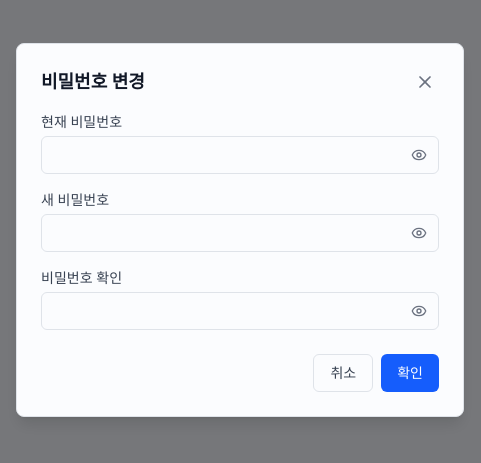
ChangePasswordDialog 기존 검증 (회귀 방지) › 새 비밀번호와 확인이 다르면 요청하지 않고 사유를 알린다
Type "old-password" into the password field labelled "현재 비밀번호". click: (240, 155)
box: top-left (41, 136), bottom-right (439, 174)
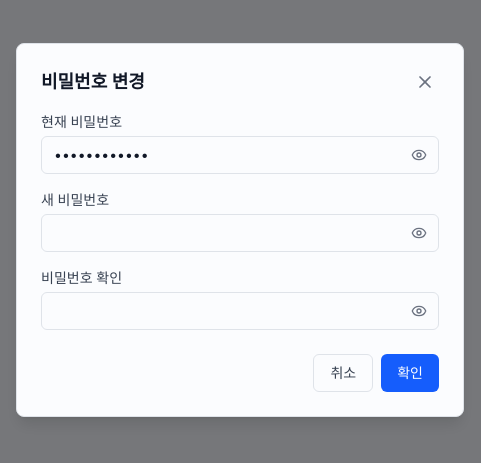
Type "new-password" into the password field labelled "새 비밀번호". click: (240, 233)
box: top-left (41, 214), bottom-right (439, 252)
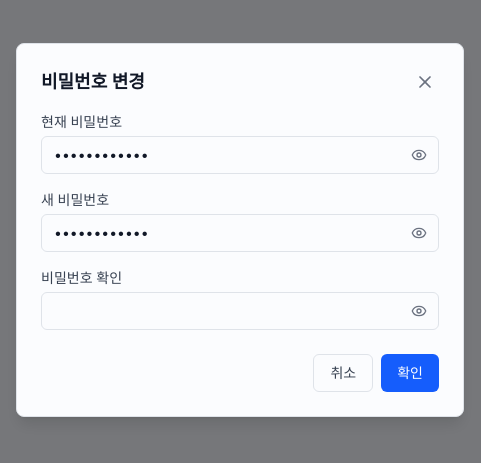
Type "other-password" into the password field labelled "비밀번호 확인". click: (240, 311)
box: top-left (41, 292), bottom-right (439, 330)
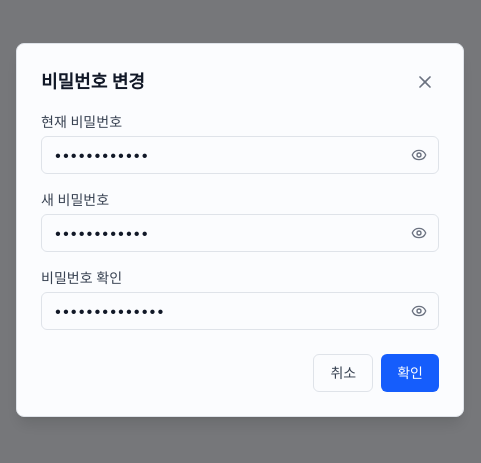
Click the button "확인". click: (410, 373)
box: top-left (381, 354), bottom-right (439, 392)
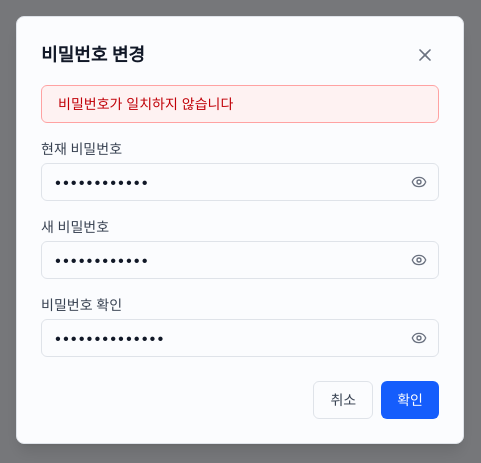
Now the message reads "비밀번호가 일치하지 않습니다", box top-left (58, 95), bottom-right (233, 112)
